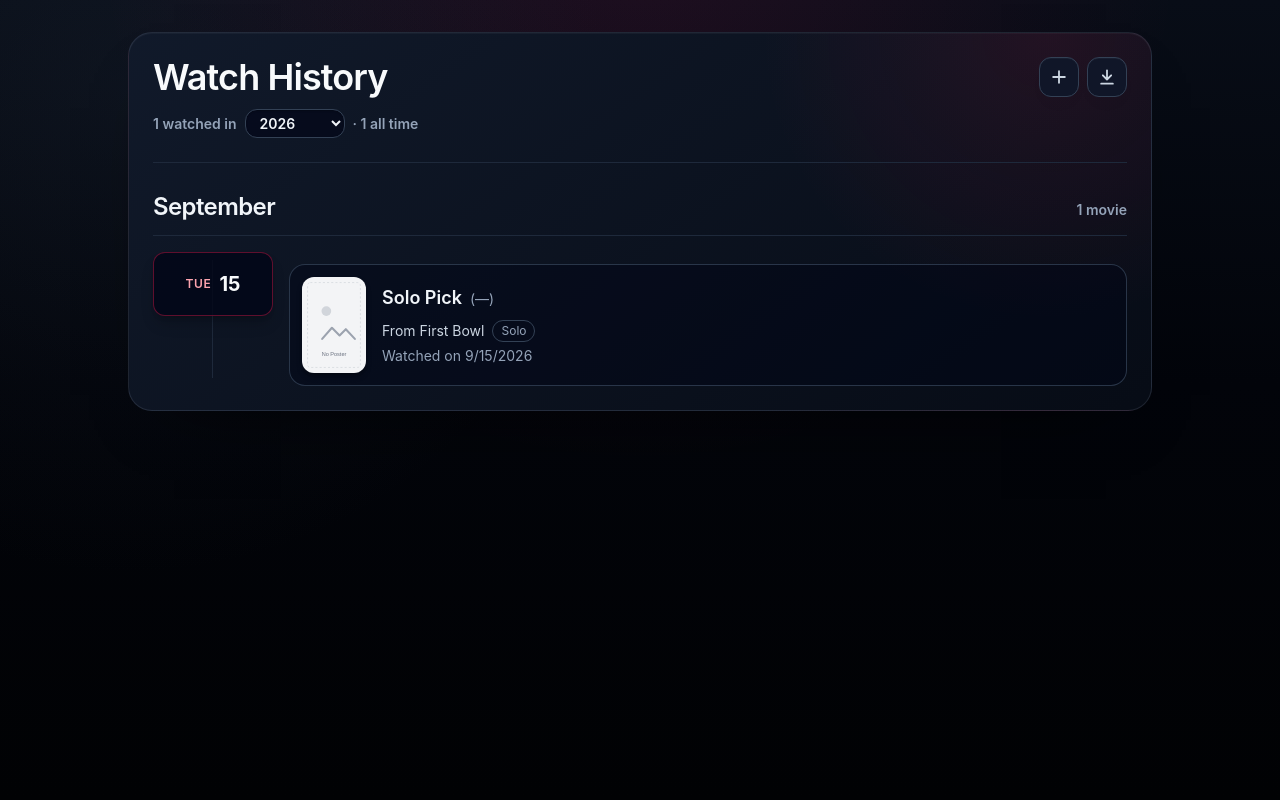
Test: WatchListPage solo undo › says which copies could not go back
Expected: the heading "Solo Pick" is shown, 382,284 -> 462,312
Step 1. Click the button "Solo Pick (—) From First Bowl Solo Watched on 9/15/2026" → (334, 325), box 289,264 -> 1127,386
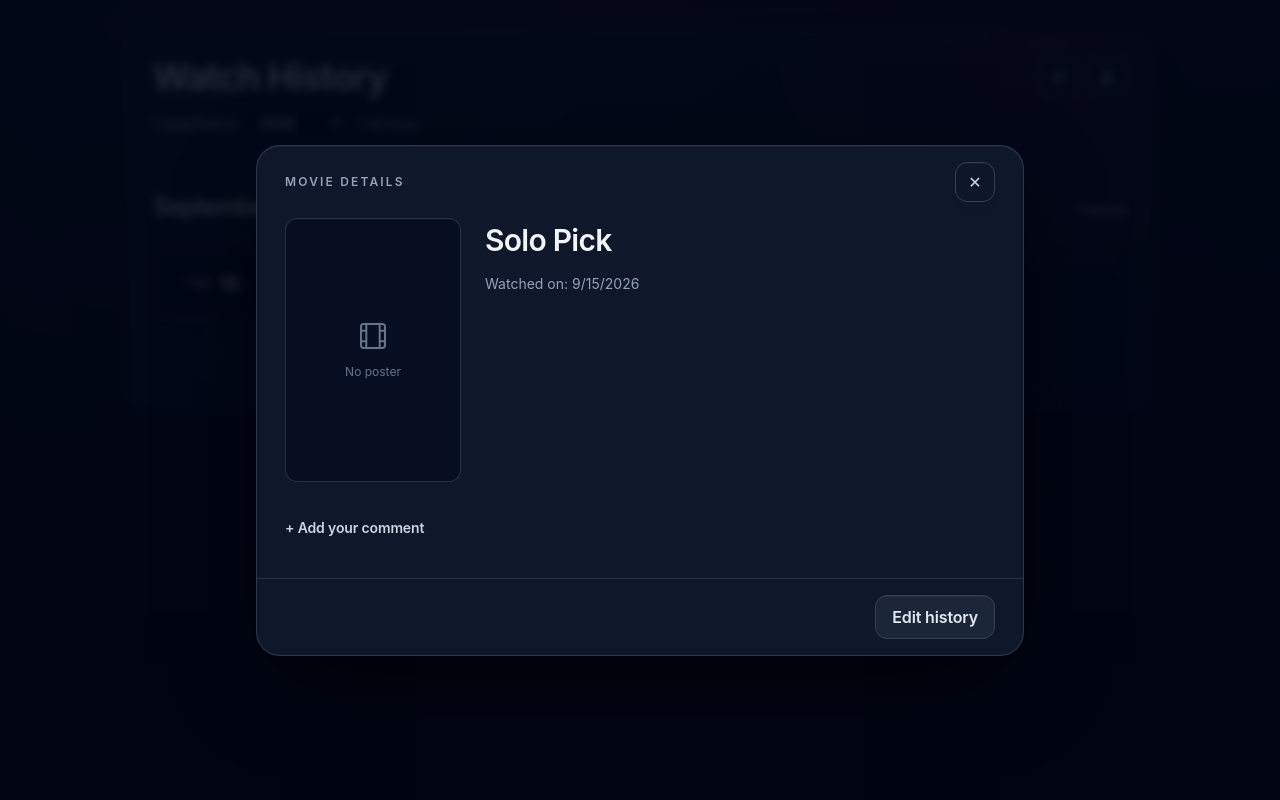
Step 2. Click the button "Edit history" → (935, 616), box 875,594 -> 995,638
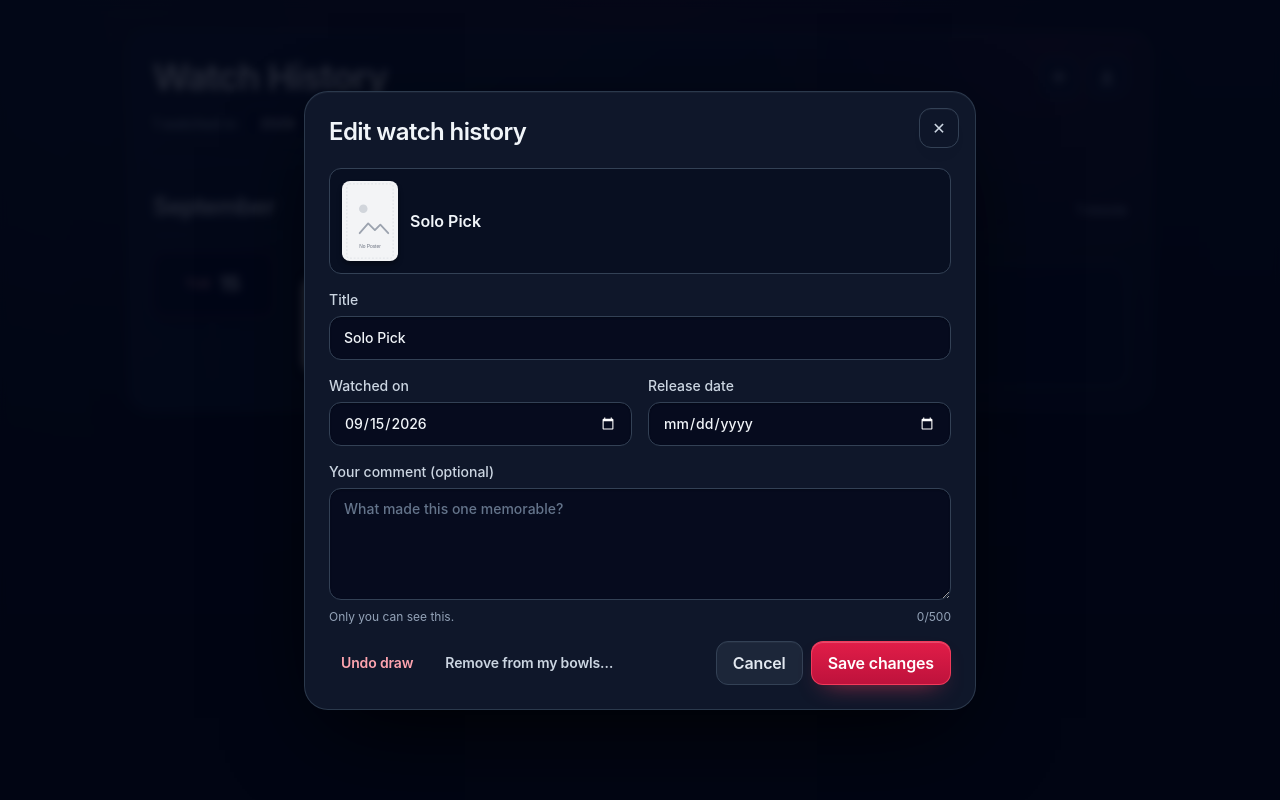
Step 3. Click the button "Undo draw" → (377, 662), box 329,640 -> 425,684
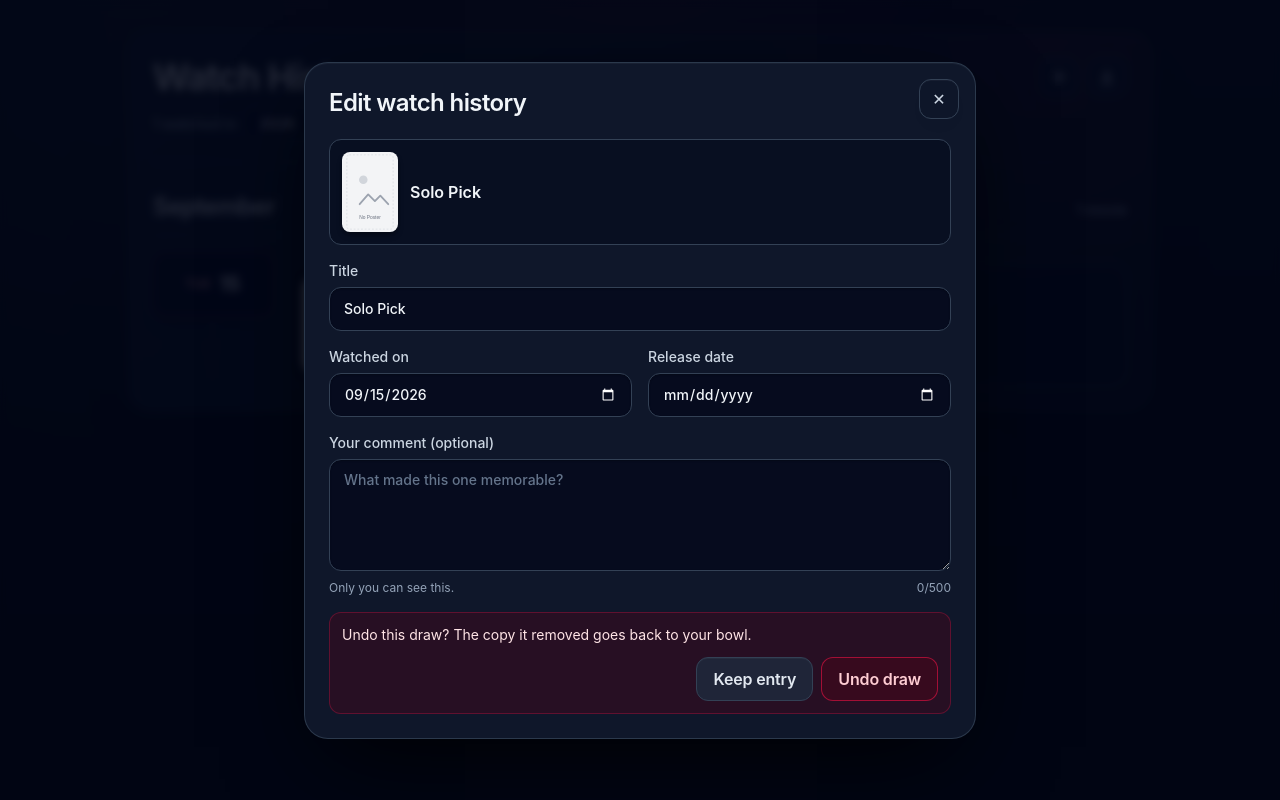
Step 4. Click the button "Undo draw" → (880, 678), box 821,656 -> 938,700
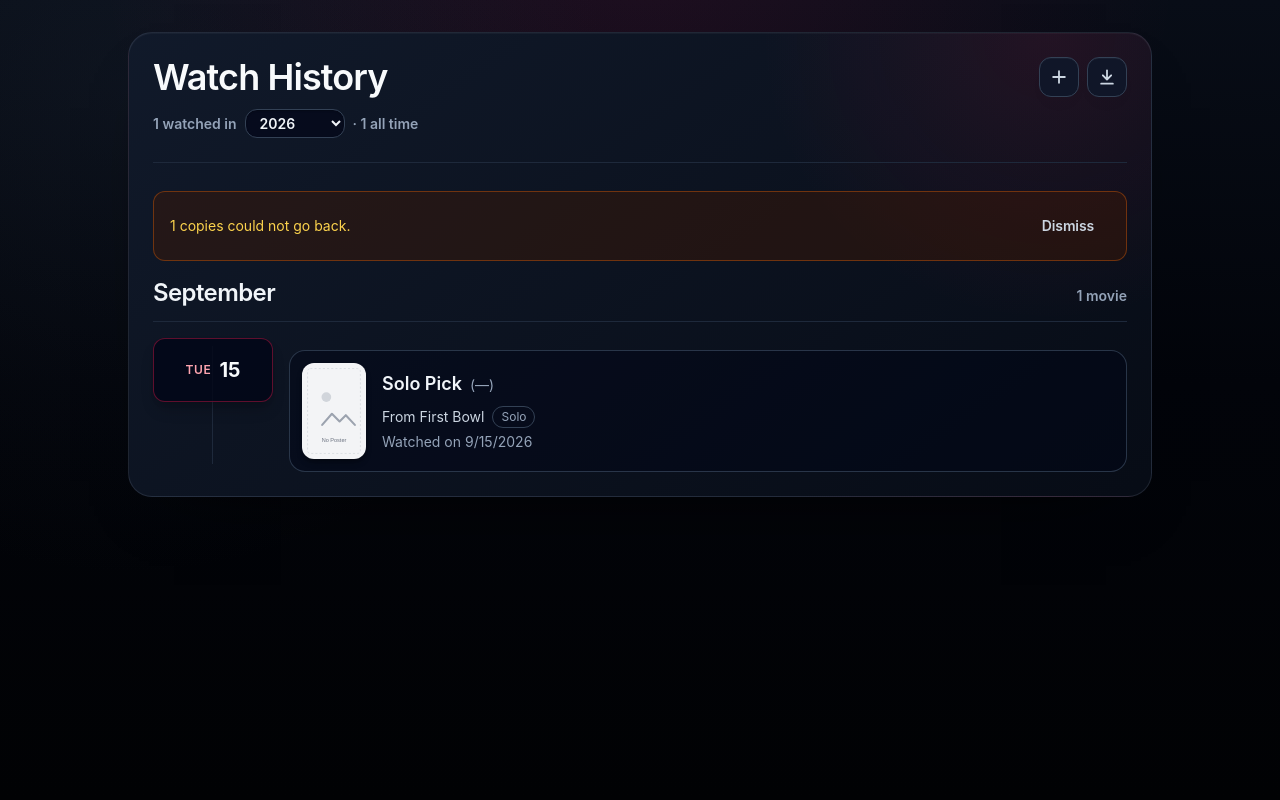
Expected: the text "1 copies could not go back." is shown, 170,216 -> 350,236
